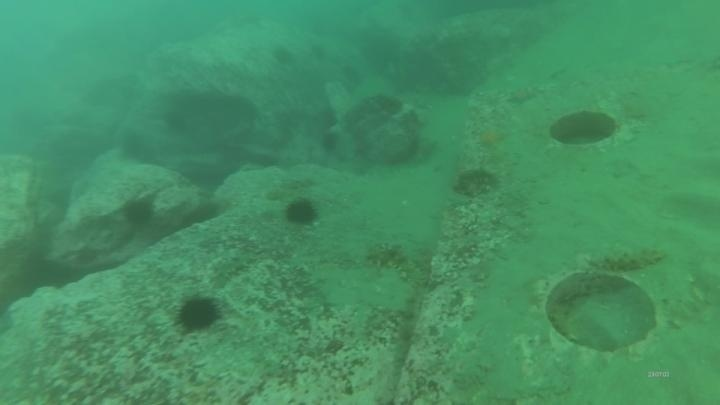echinus: (175, 294, 222, 334), (282, 196, 321, 228), (120, 196, 156, 229), (270, 43, 296, 68), (312, 46, 332, 63)
holothurian: (584, 241, 669, 276), (364, 241, 426, 288), (207, 245, 256, 288)
starfish: (473, 122, 510, 151), (504, 83, 541, 107)
